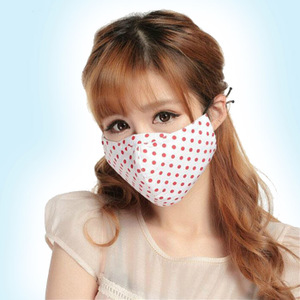face_mask: (98, 63, 203, 207)
